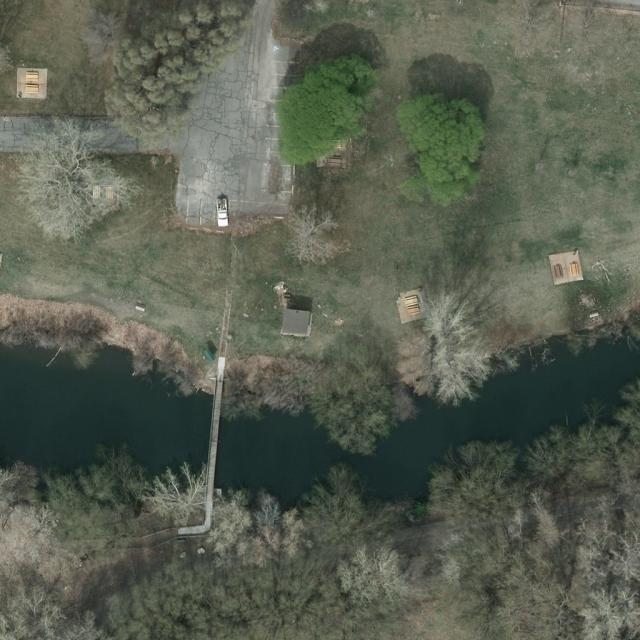vehicle: (214, 199, 230, 227)
